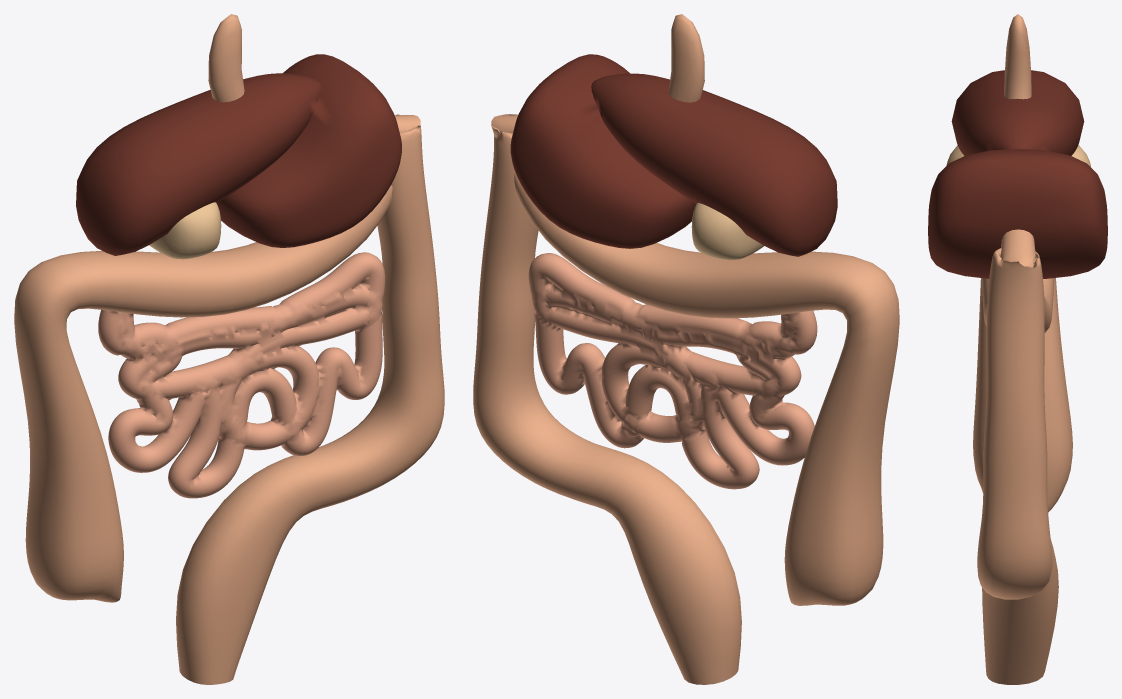
The model's file is Dig.gltf.
3 views of the same model, side by side, from view 1: azimuth 30°, elevation 25°; view 2: azimuth 150°, elevation 25°; view 3: azimuth 270°, elevation 25° (orthographic). The views are drawn at different scales.
Parts seen in each view (by area): view 1: Vert.001; view 2: Vert.001; view 3: Vert.001.
Part boxes in pixels (x1,y1,x2,y2): Vert.001: [14, 14, 444, 684]; Vert.001: [473, 14, 899, 684]; Vert.001: [928, 14, 1107, 684].
Bounding box in the file's own units: 1.67 × 2.53 × 0.6116.
